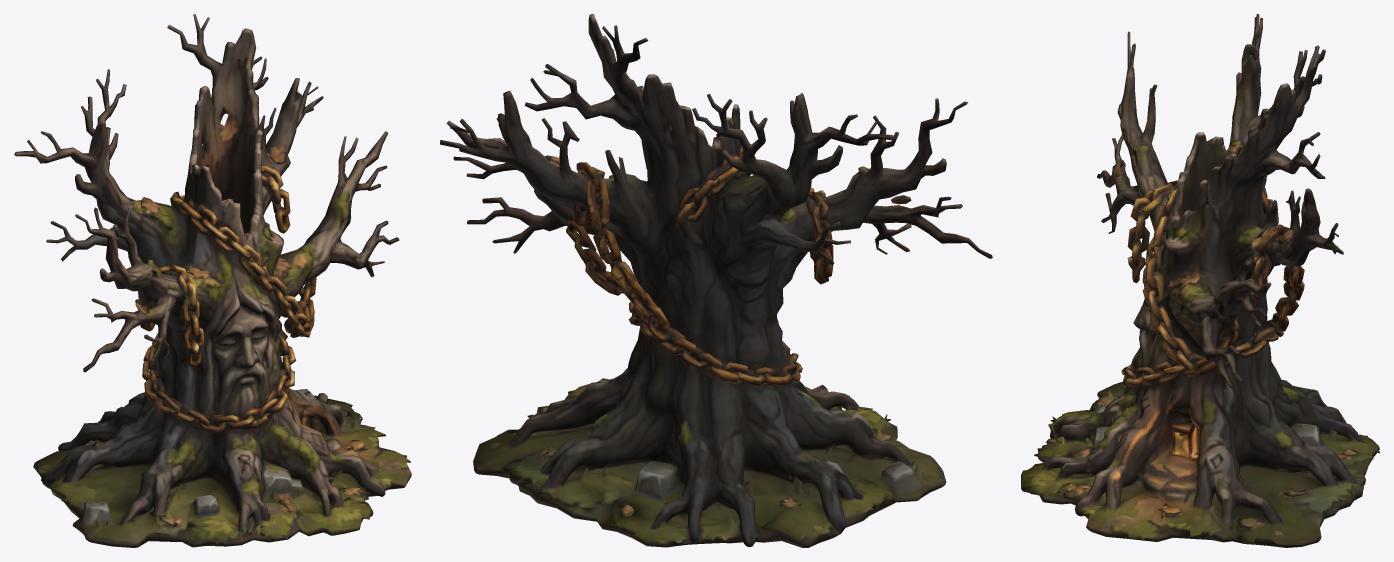
The model's file is enchanted-oak.glb.
3 views of the same model, side by side, from view 1: azimuth 30°, elevation 25°; view 2: azimuth 150°, elevation 25°; view 3: azimuth 270°, elevation 25° (orthographic). The views are drawn at different scales.
Visible parts, largest first — view 1: Enchanted Tree — gentle wind; view 2: Enchanted Tree — gentle wind; view 3: Enchanted Tree — gentle wind.
Boxes of the visible parts, box(x1,y1,x2,y2) form: Enchanted Tree — gentle wind: box(14, 14, 411, 547); Enchanted Tree — gentle wind: box(440, 14, 992, 547); Enchanted Tree — gentle wind: box(1021, 14, 1379, 547).
Bounding box in the file's own units: 0.9498 × 0.9766 × 0.7396.
Materials: 1 (1 with a texture image).
